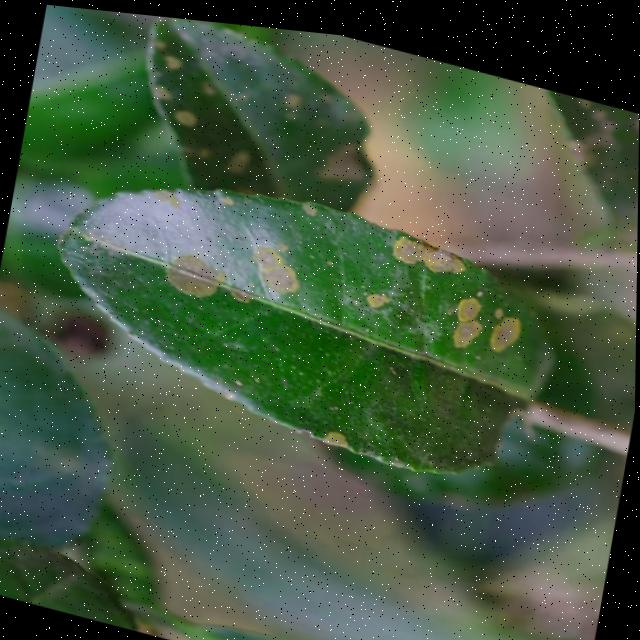Tea algae leaf spot: (148, 159, 575, 401)
